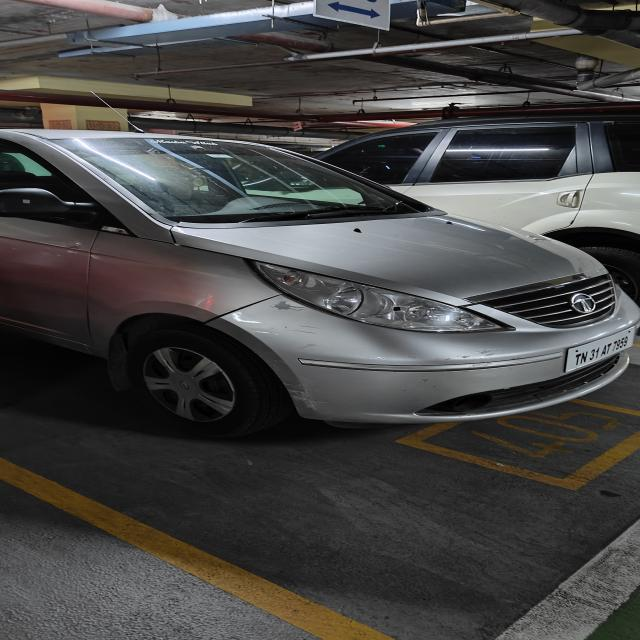scratch: (279, 377, 328, 417), (285, 323, 326, 336), (271, 300, 313, 312), (429, 351, 471, 362), (474, 348, 504, 360), (292, 341, 322, 350)
